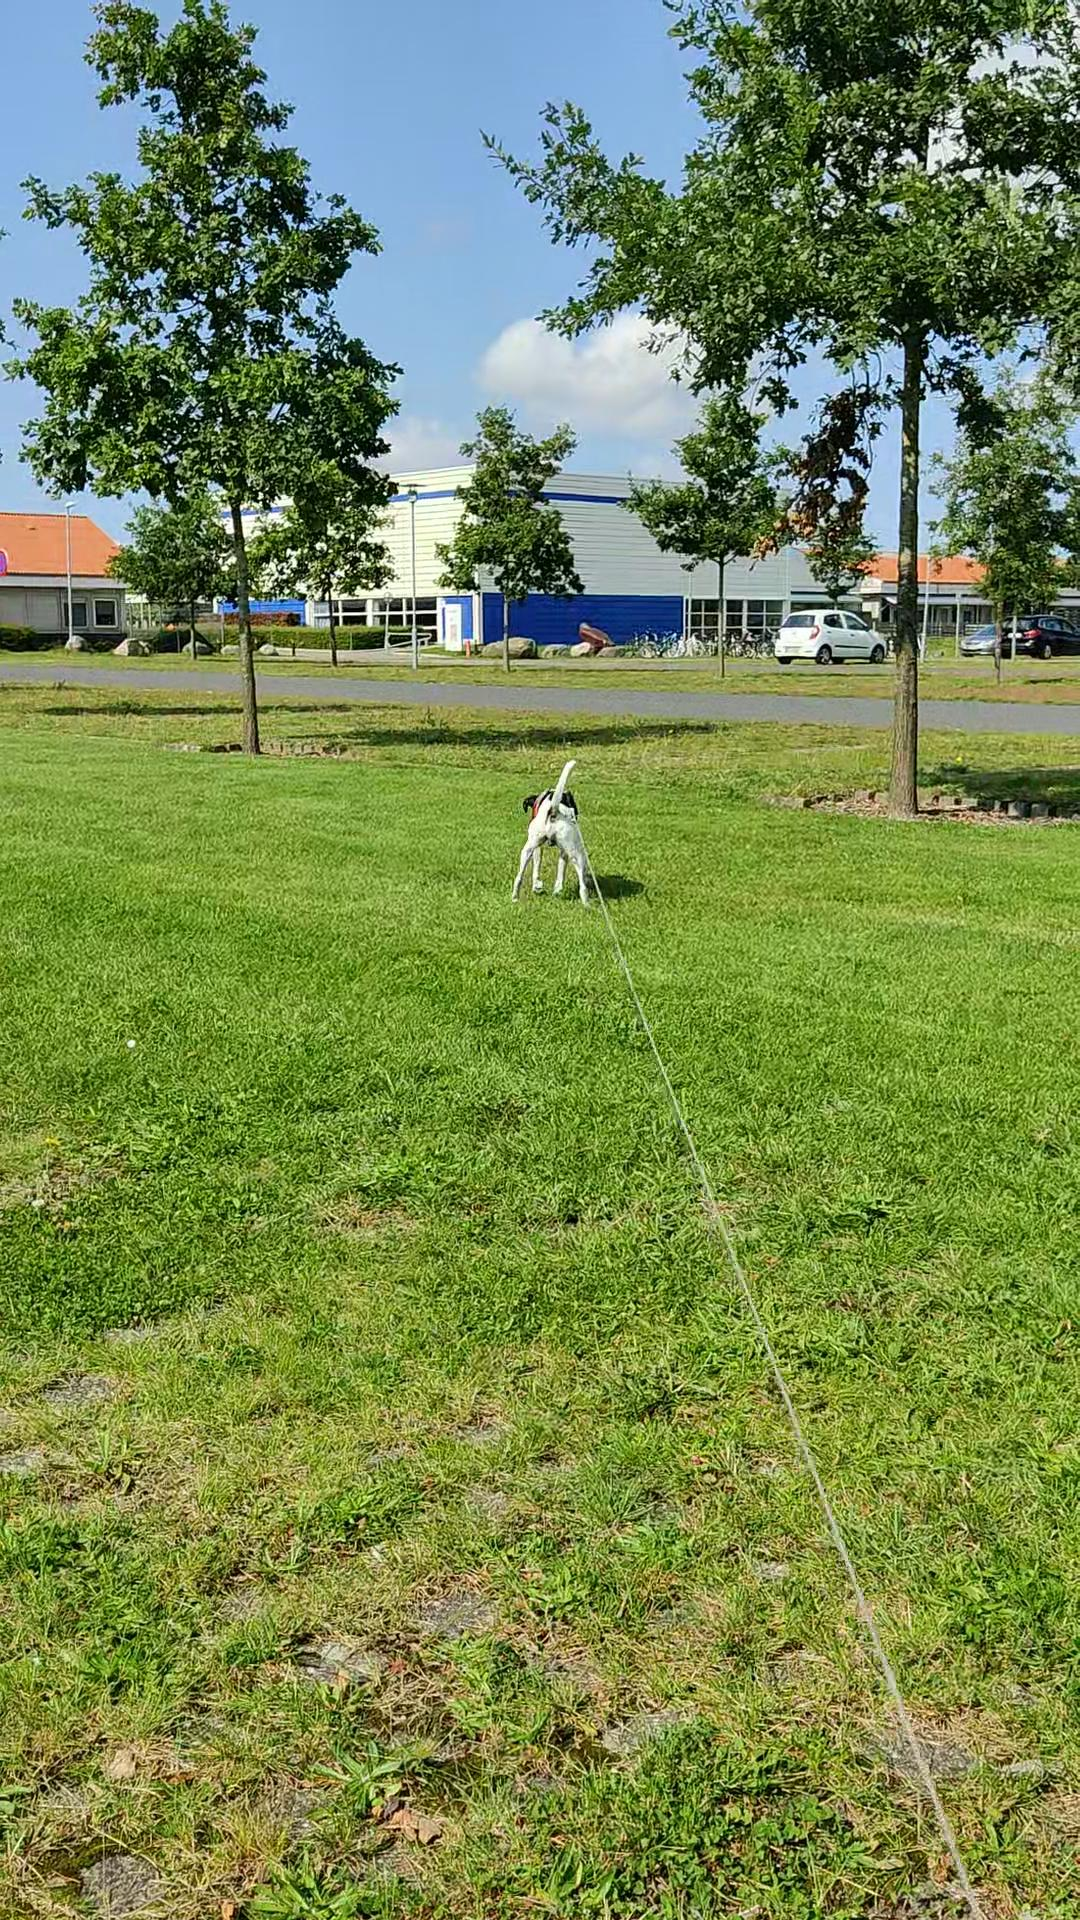Dog: (498, 756, 613, 915)
